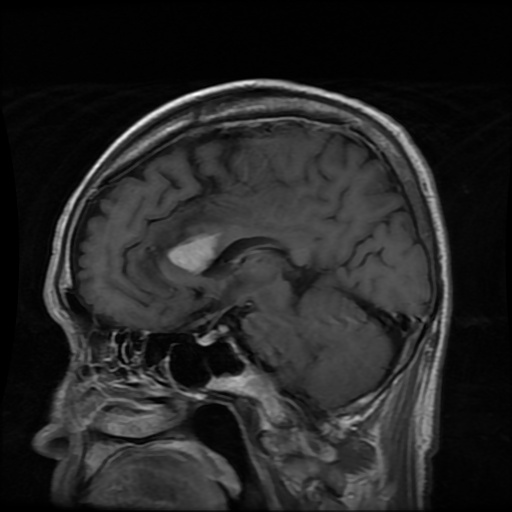glioma: (167, 229, 222, 274)
